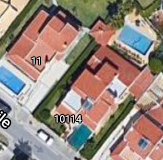pool: (121, 29, 148, 53), (1, 67, 23, 92), (74, 124, 89, 148)
